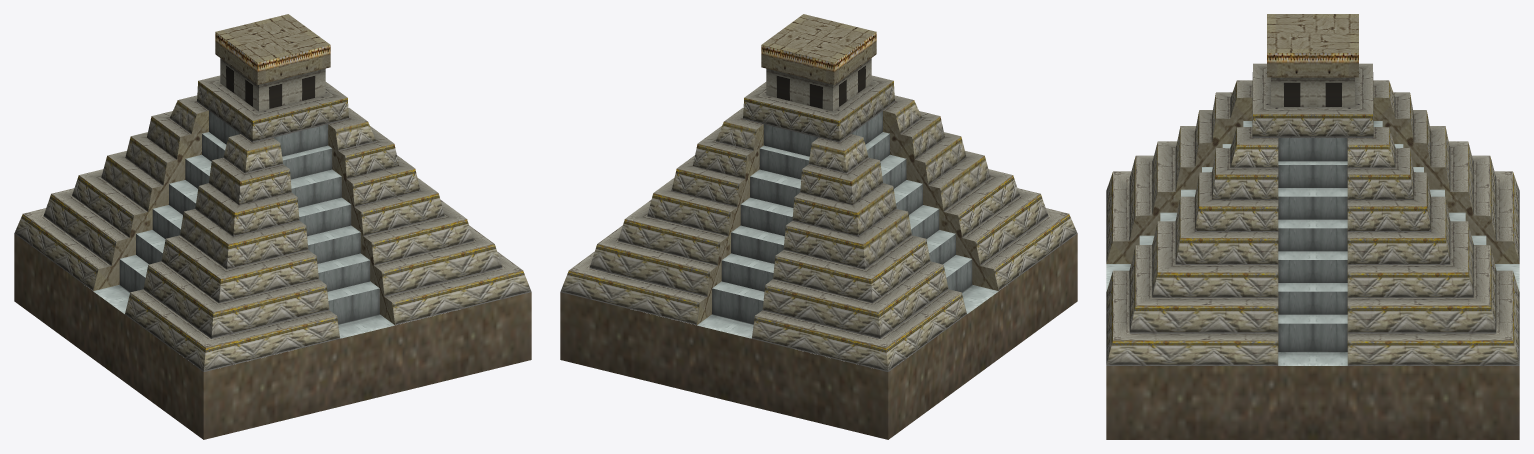
The model's file is jun_boundary_temple.obj.
3 views of the same model, side by side, from view 1: azimuth 30°, elevation 25°; view 2: azimuth 150°, elevation 25°; view 3: azimuth 270°, elevation 25° (orthographic). The views are drawn at different scales.
Bounding box in the file's own units: 2 × 1.7 × 2.
Materials: 1 (1 with a texture image).
